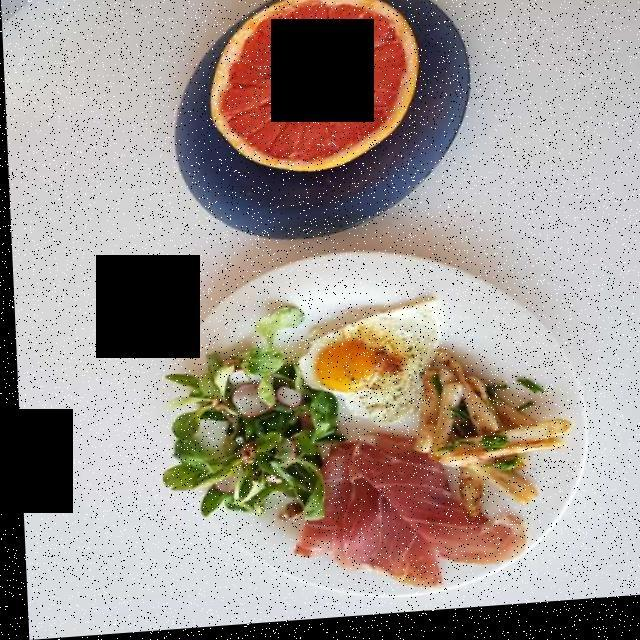asparagus: (421, 376, 550, 491)
egg: (302, 312, 435, 431)
ham: (292, 448, 513, 593)
radish: (219, 374, 311, 472)
salad: (163, 315, 328, 515)
